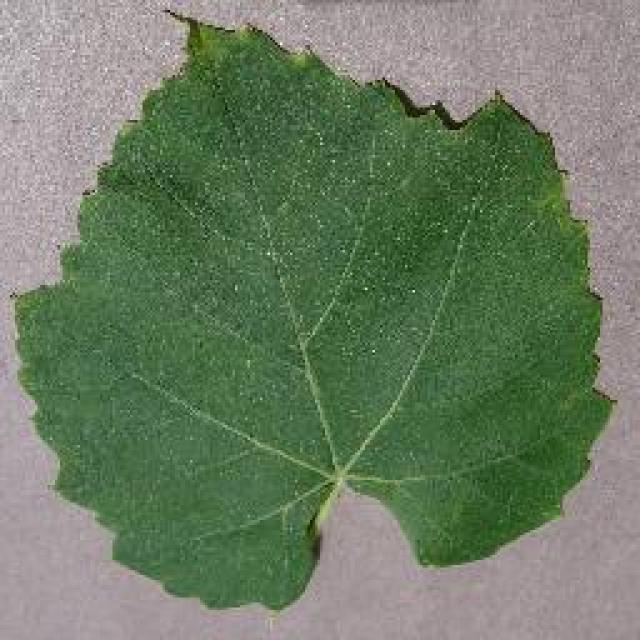Healthy: (22, 2, 630, 616)
